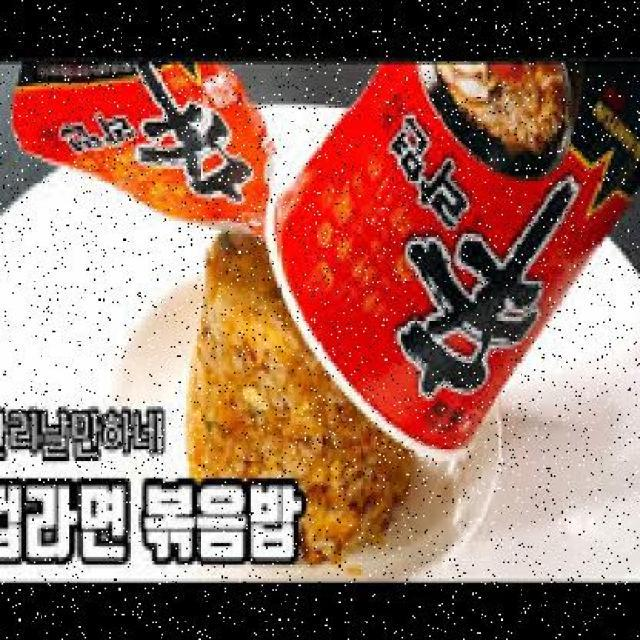Miscellaneous: (261, 57, 640, 468)
